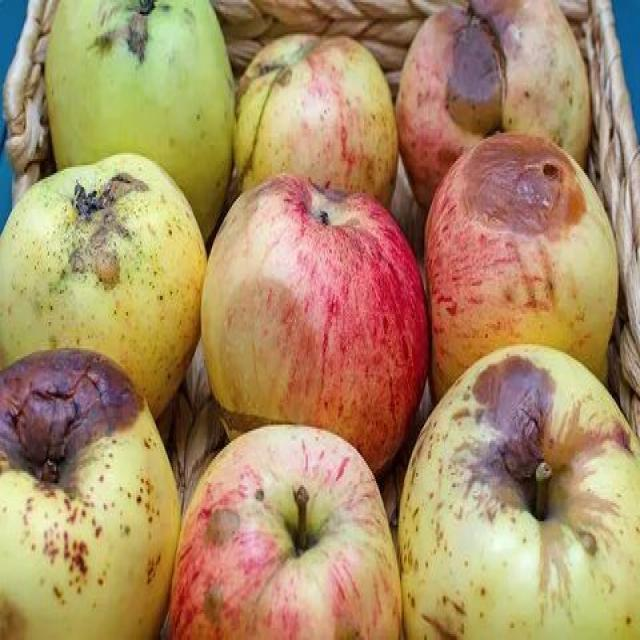Rotten: (404, 366, 640, 640), (216, 180, 424, 452), (6, 346, 178, 640), (188, 424, 390, 640), (426, 136, 608, 374), (18, 146, 188, 378), (24, 8, 232, 196), (384, 12, 608, 168), (240, 32, 396, 198)
